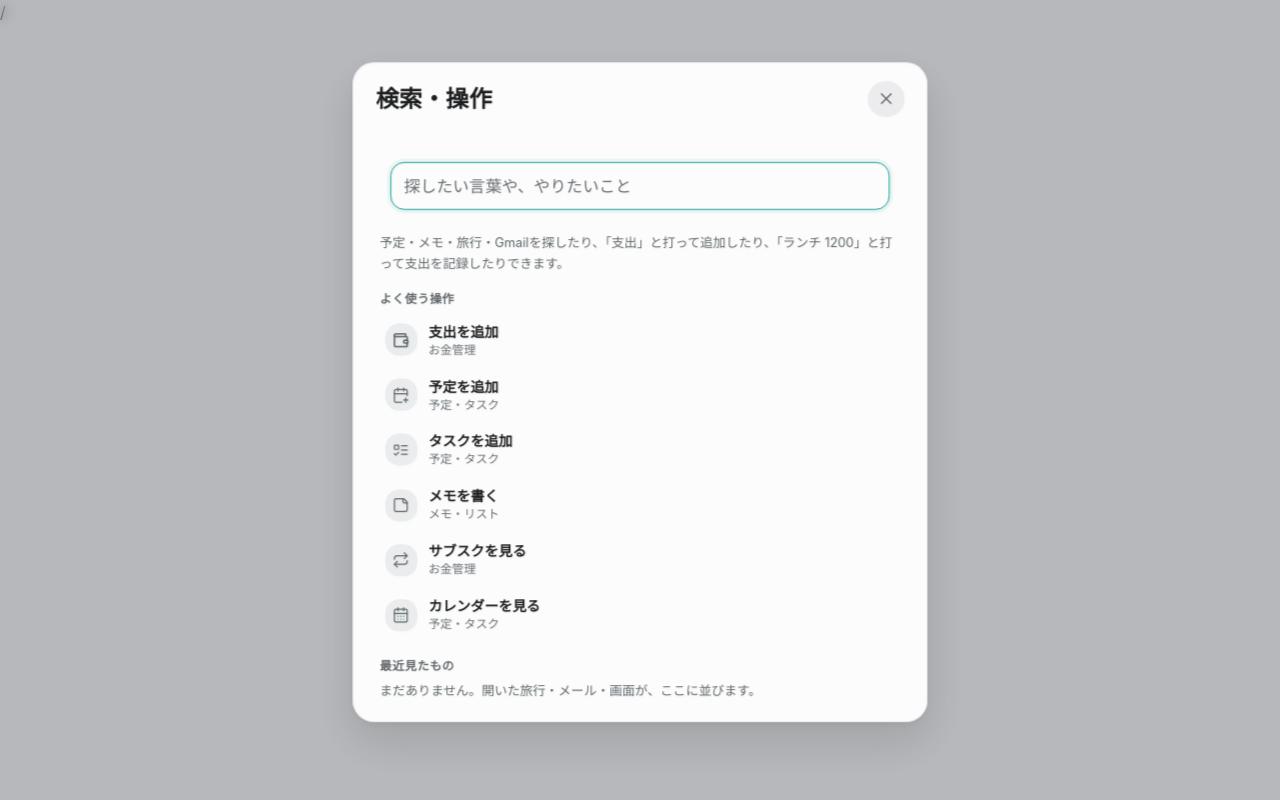
まとめて検索 — 隠した機能(設定の「使う機能」) › 探す時: 隠した機能のメール・旅行は、当たりに出さない。隠していない機能は今までどおり
Type "ご予約" into the dropdown. click: (640, 185)
box: [390, 161, 890, 209]
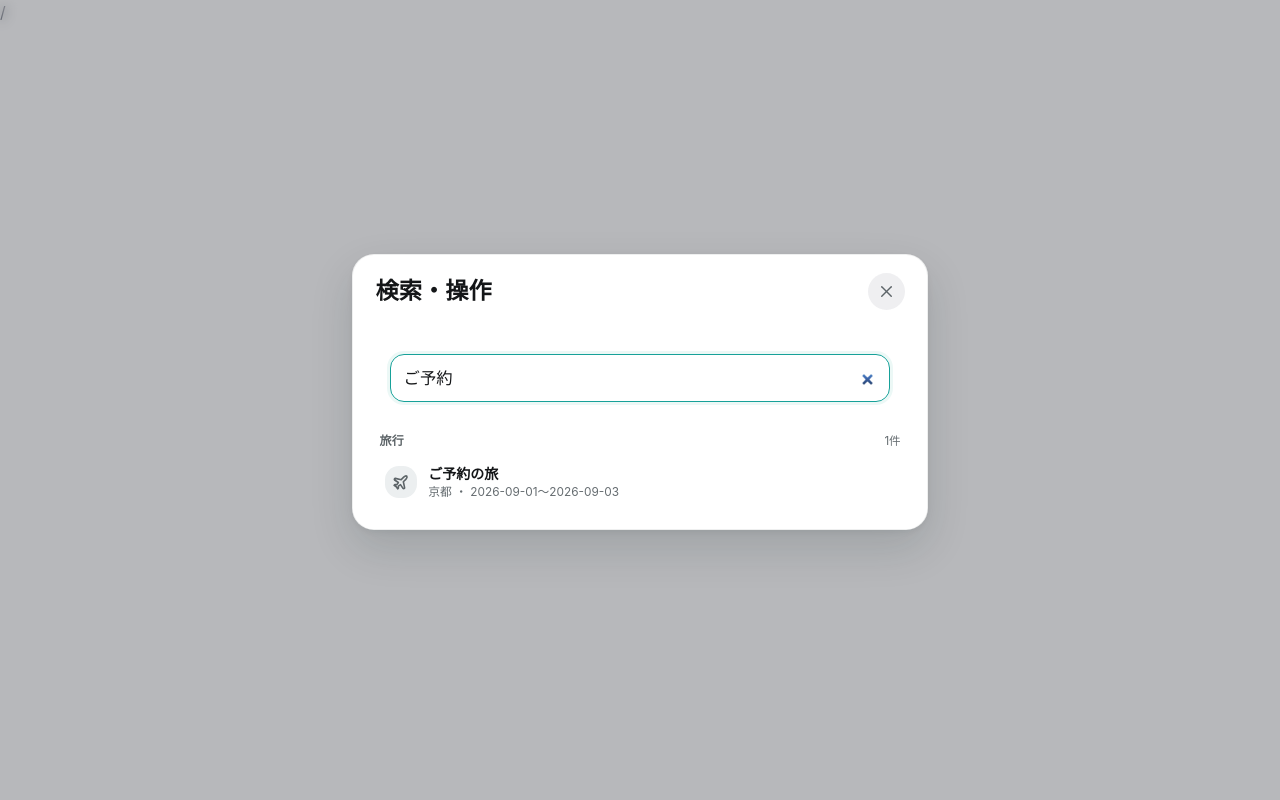
Expected: the option "ご予約の旅 京都 ・ 2026-09-01〜2026-09-03" is shown, [385, 465, 619, 499]
